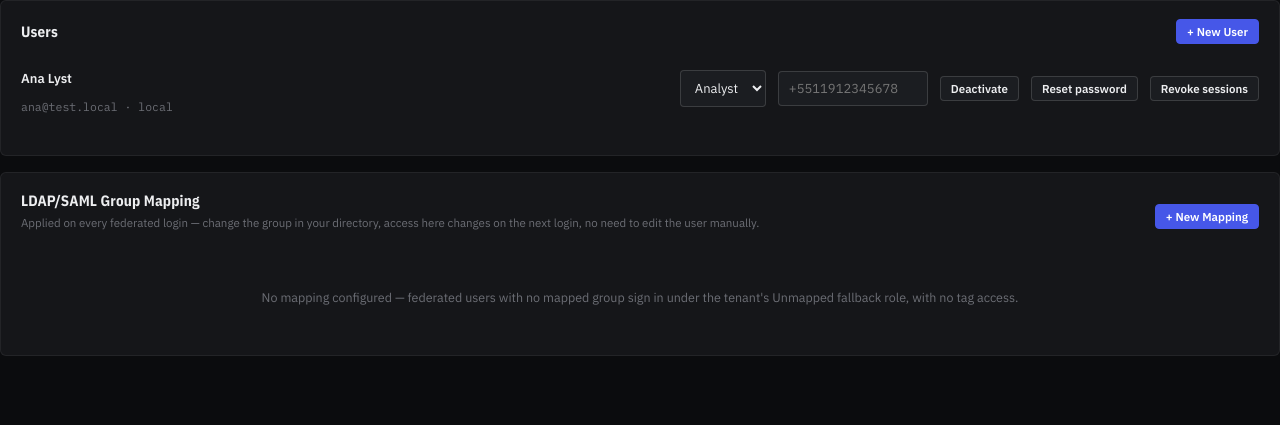
Test: UsersPanel › shows the server's error when an invalid phone is rejected
The width and height of the screenshot is (1280, 425).
Check: the text "Ana Lyst" is shown, box [21, 70, 72, 87]
Type "5511912345678" into the field named "Phone" at [853, 88], box [778, 71, 928, 106]
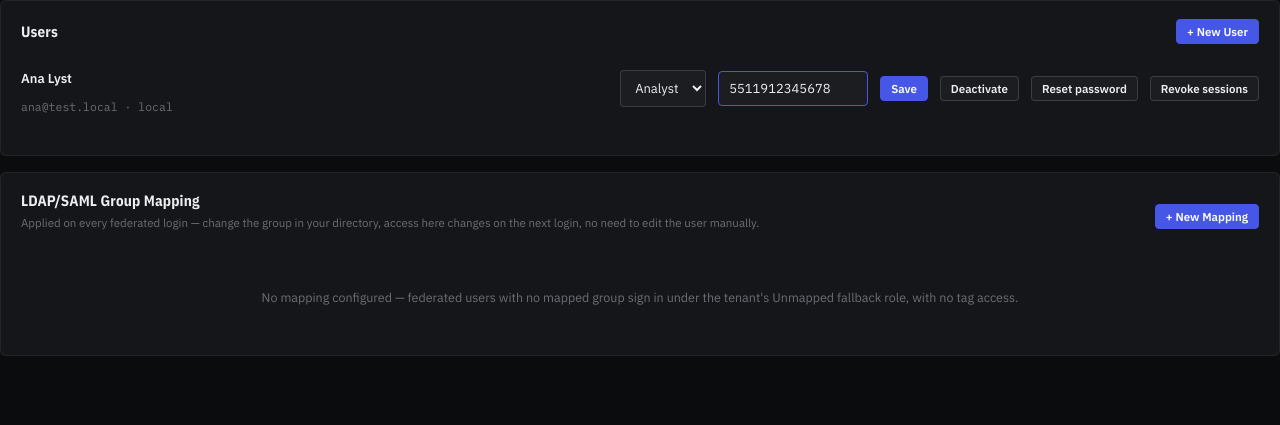
Click the button "Save" at [904, 88], box [880, 76, 928, 101]
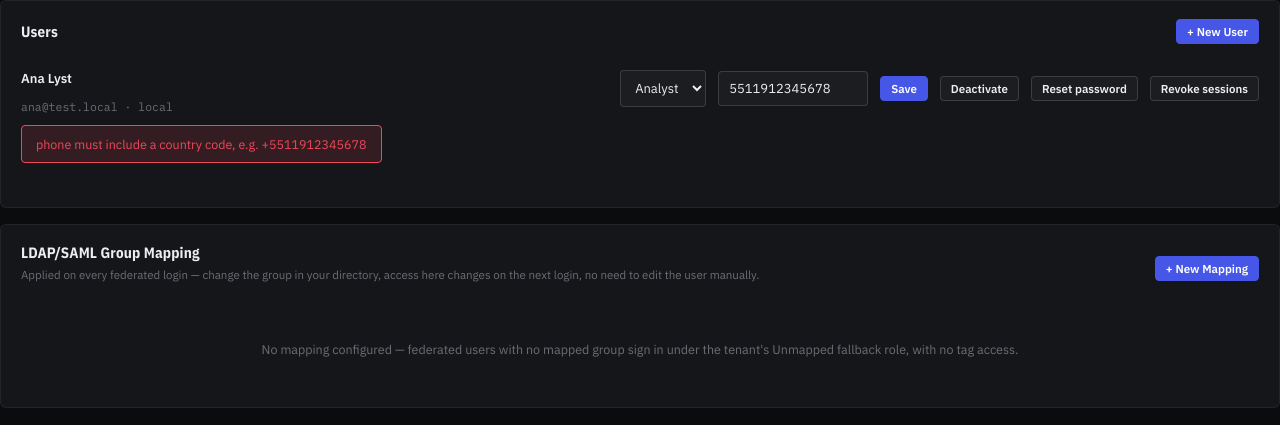
Check: the text "phone must include a country code, e.g. +5511912345678" is shown, box [21, 125, 382, 163]
